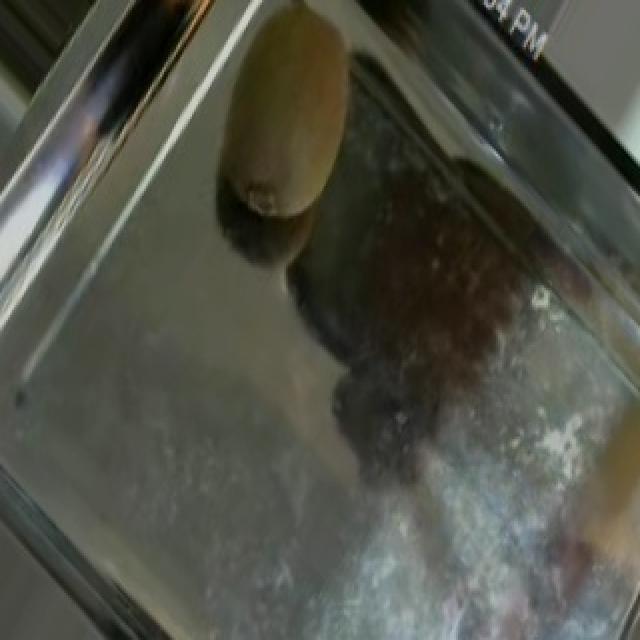Fruit: (180, 0, 390, 253), (516, 364, 640, 640)
